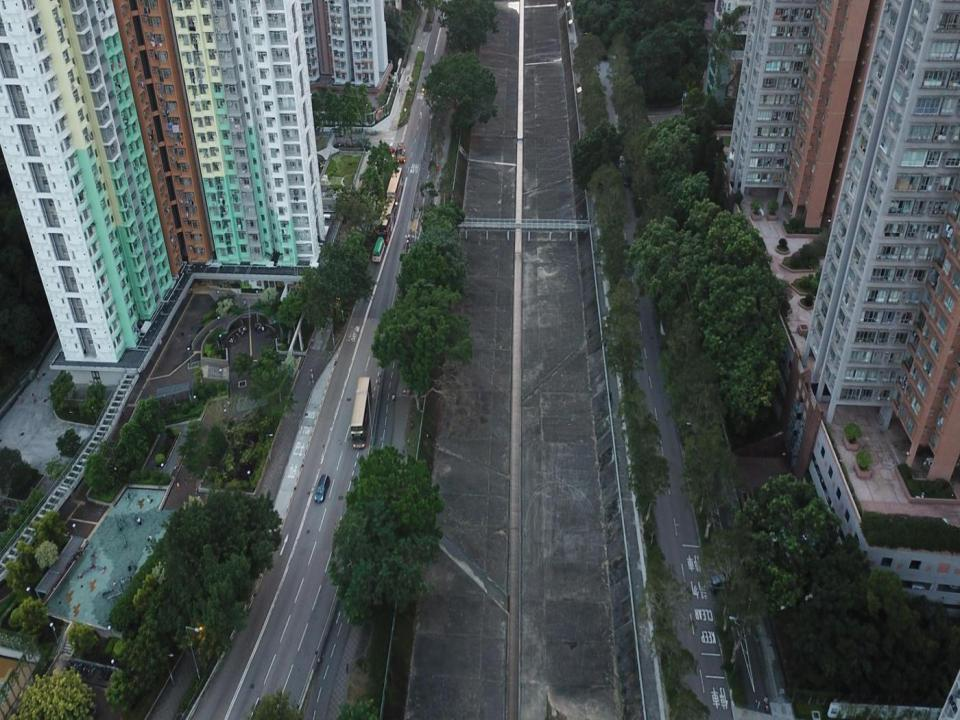bus: (350, 375, 372, 450), (375, 197, 396, 243), (386, 166, 403, 202), (372, 237, 384, 262)
car: (909, 569, 925, 590), (946, 568, 959, 592), (388, 142, 396, 155)
truck: (396, 140, 406, 162)
van: (710, 573, 738, 592), (313, 474, 330, 503), (615, 147, 625, 169), (622, 168, 630, 187), (330, 128, 344, 137)
